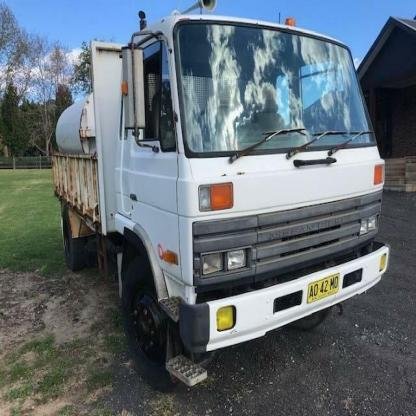dump_truck: (33, 11, 395, 367)
